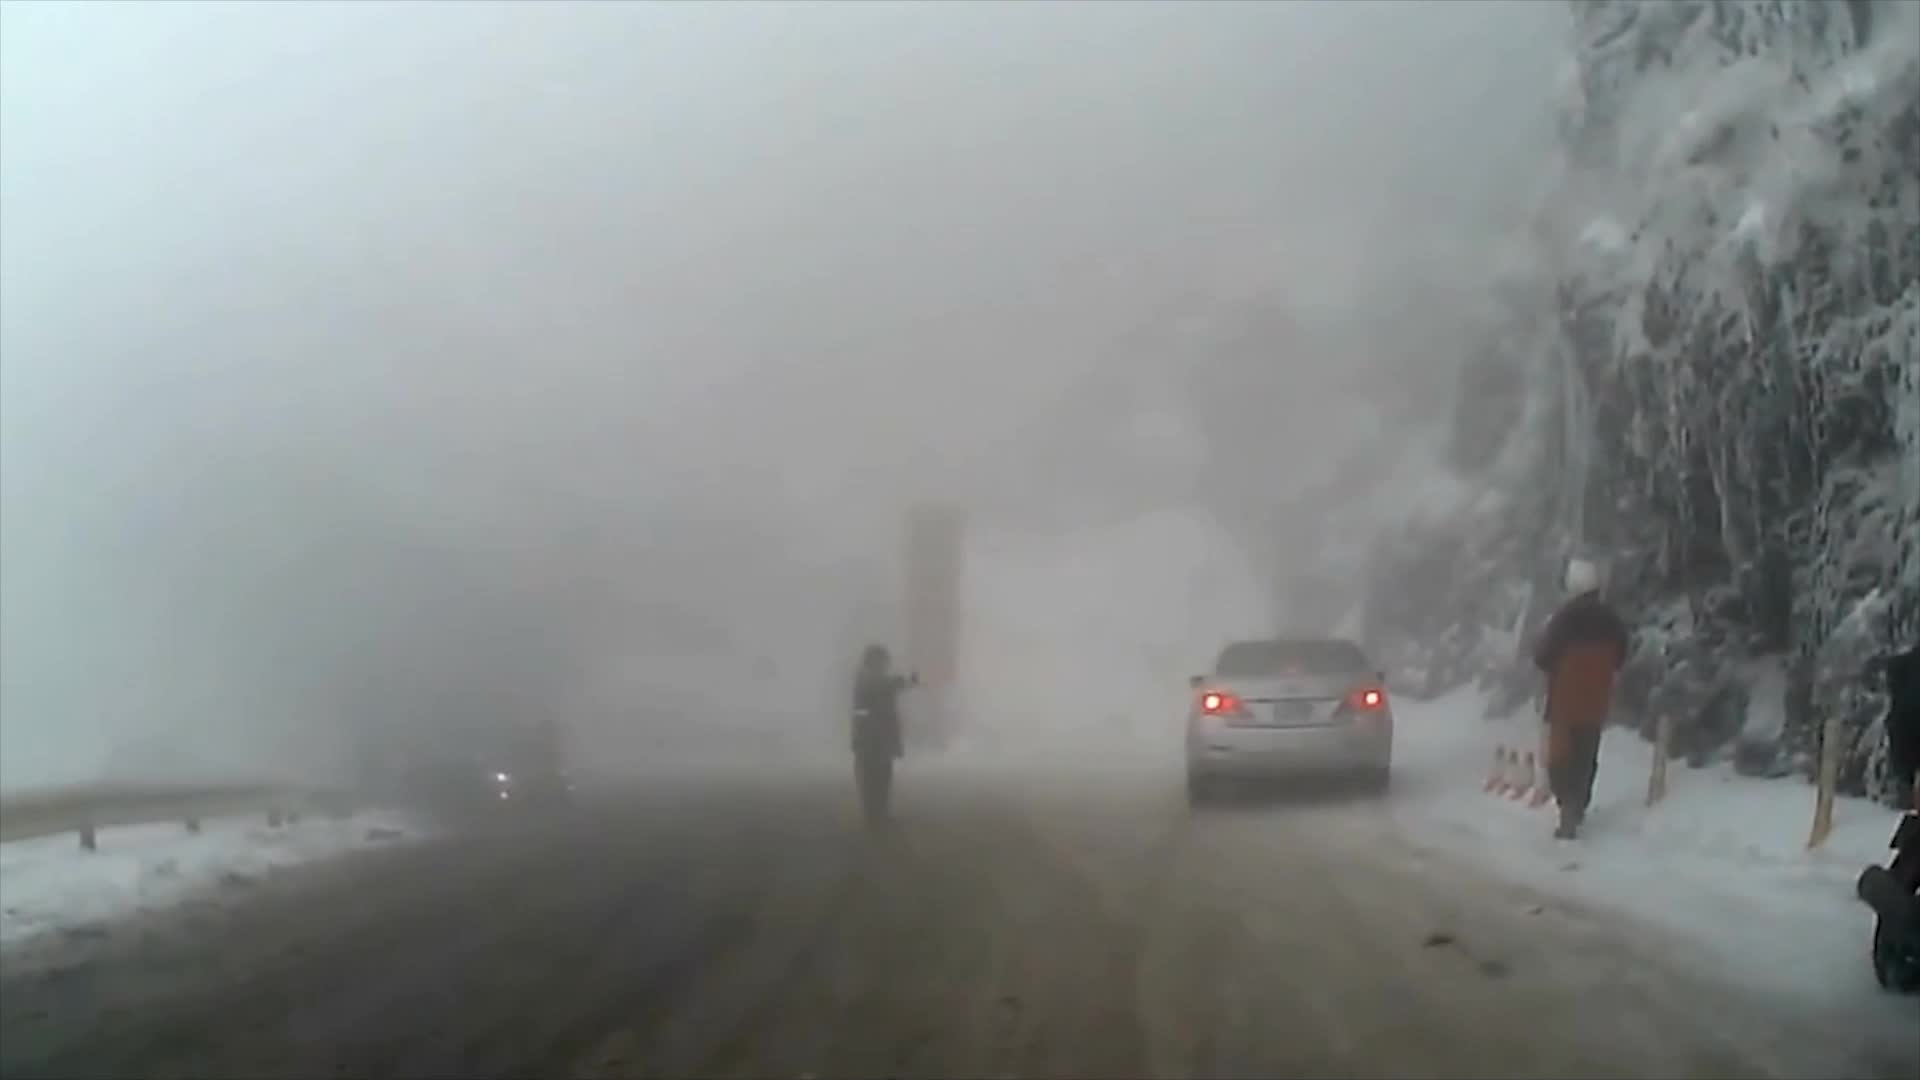pedestrian: (1529, 552, 1636, 839), (852, 644, 916, 828)
vehicle: (1185, 634, 1389, 808)
